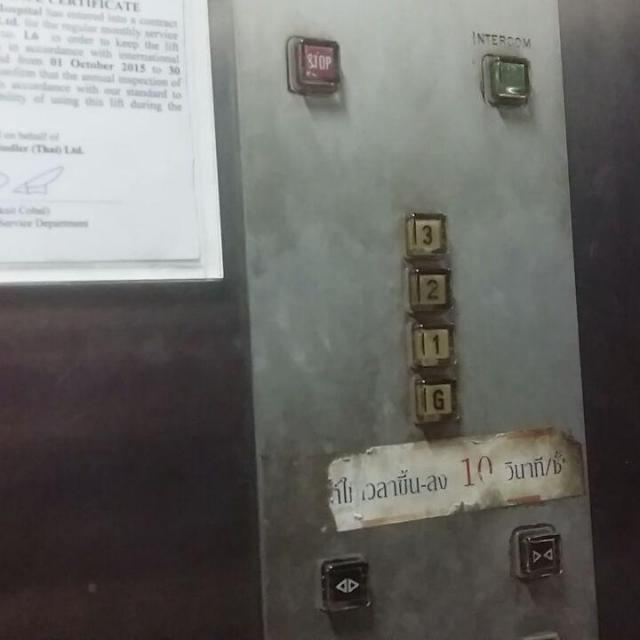1: (405, 318, 458, 370)
2: (403, 262, 454, 312)
3: (402, 210, 449, 258)
G: (407, 370, 460, 425)
close: (510, 523, 562, 582)
empty: (479, 51, 531, 108)
open: (314, 552, 373, 612)
text_stop: (285, 33, 343, 97)
